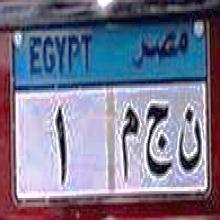1: (50, 97, 71, 189)
jeem: (144, 98, 174, 178)
meem: (118, 100, 140, 186)
noon: (176, 104, 203, 174)
